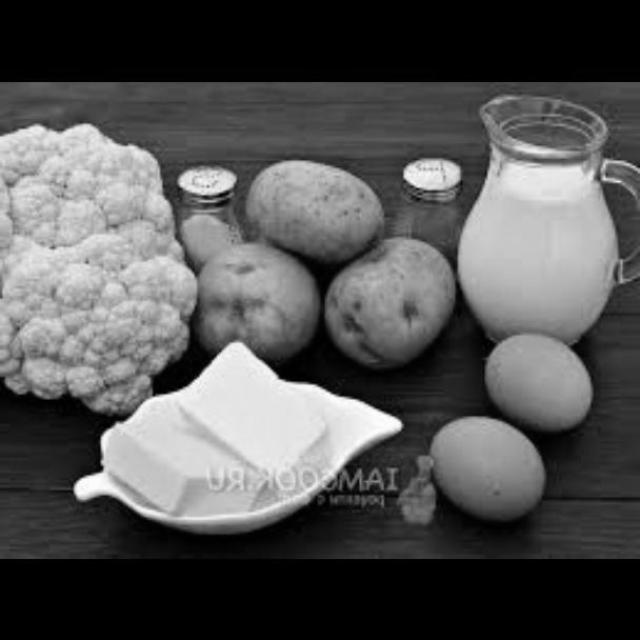cauliflower: (0, 116, 204, 423)
potato: (185, 156, 451, 366)
